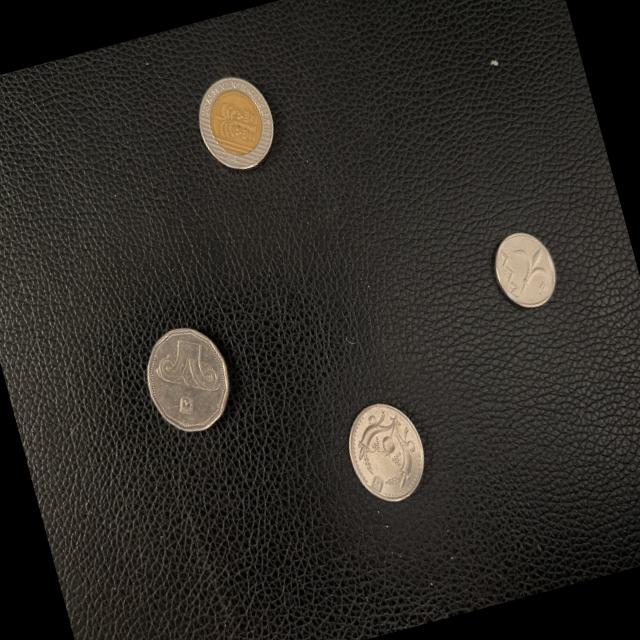1-shekel: (486, 224, 566, 317)
10-shekel: (189, 70, 289, 179)
2-shekel: (337, 395, 435, 510)
5-shekel: (127, 314, 251, 458)
